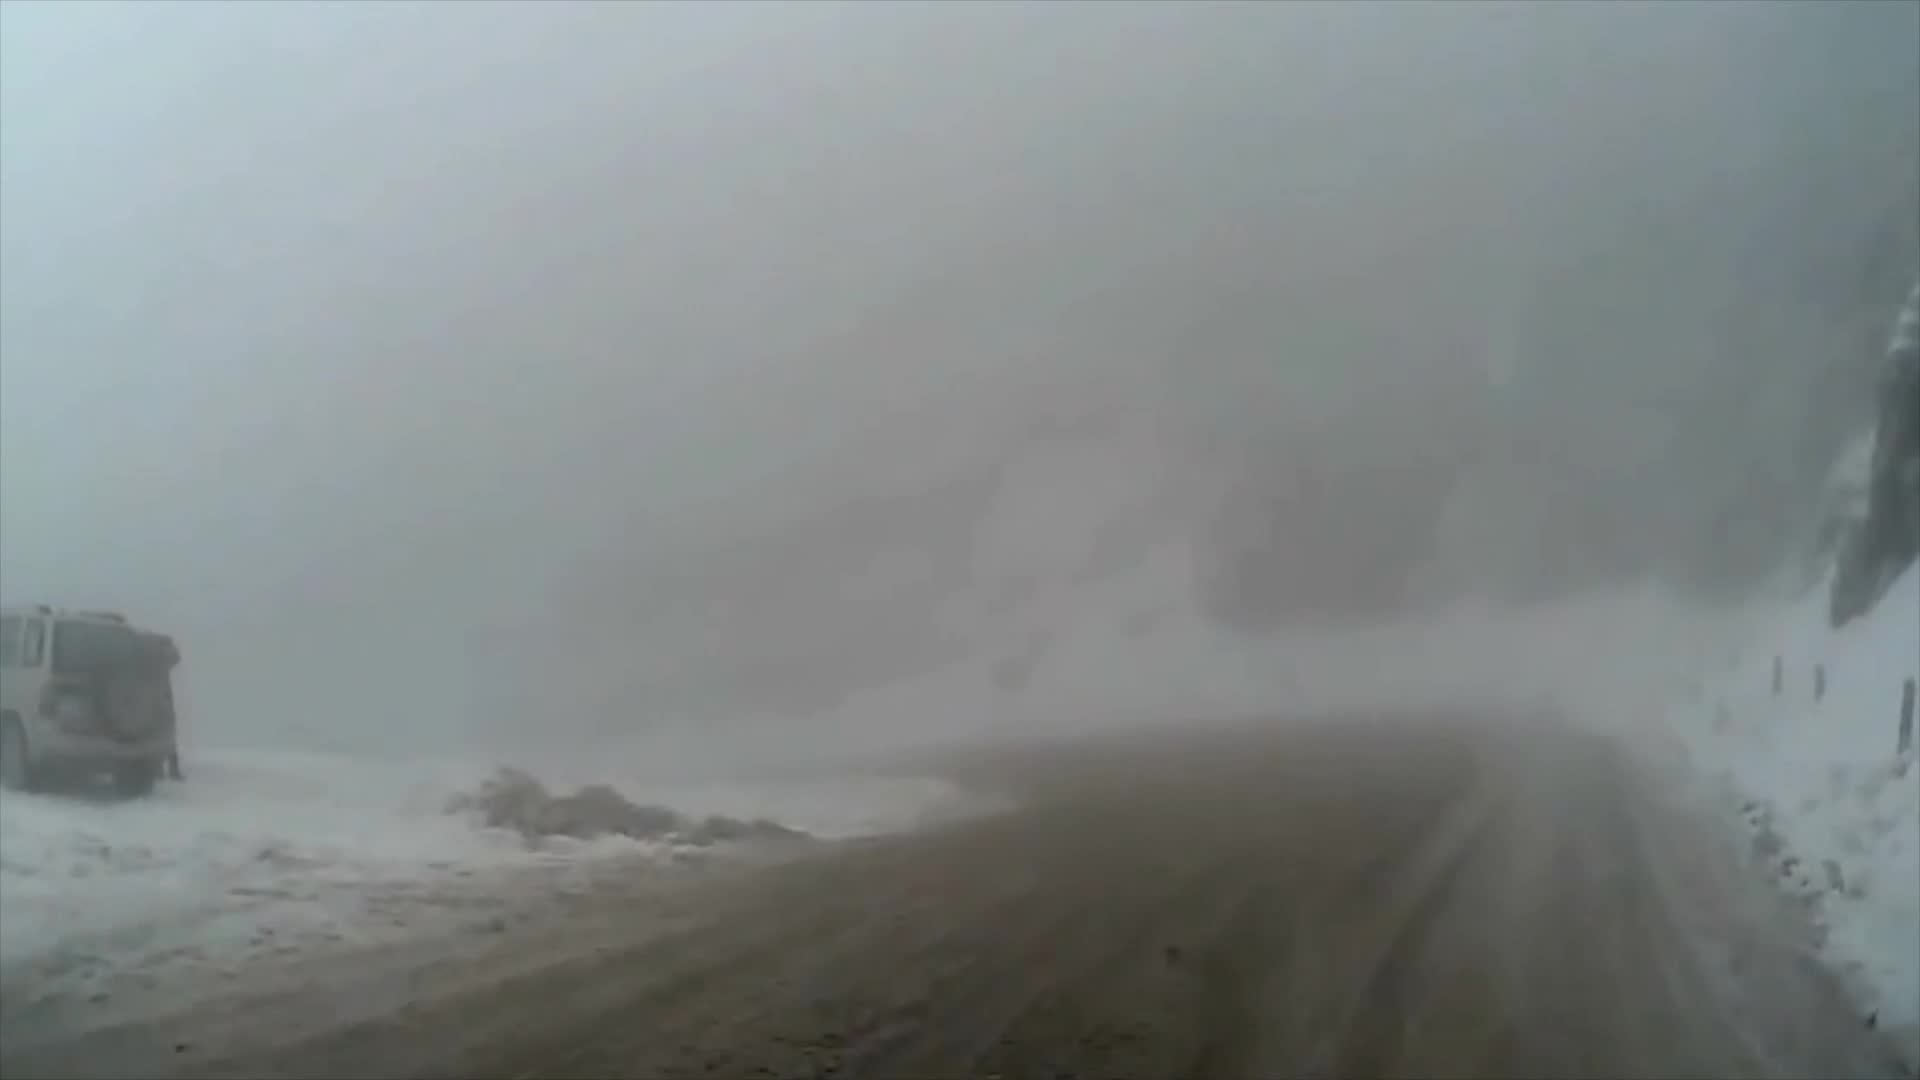vehicle: (0, 607, 169, 800)
